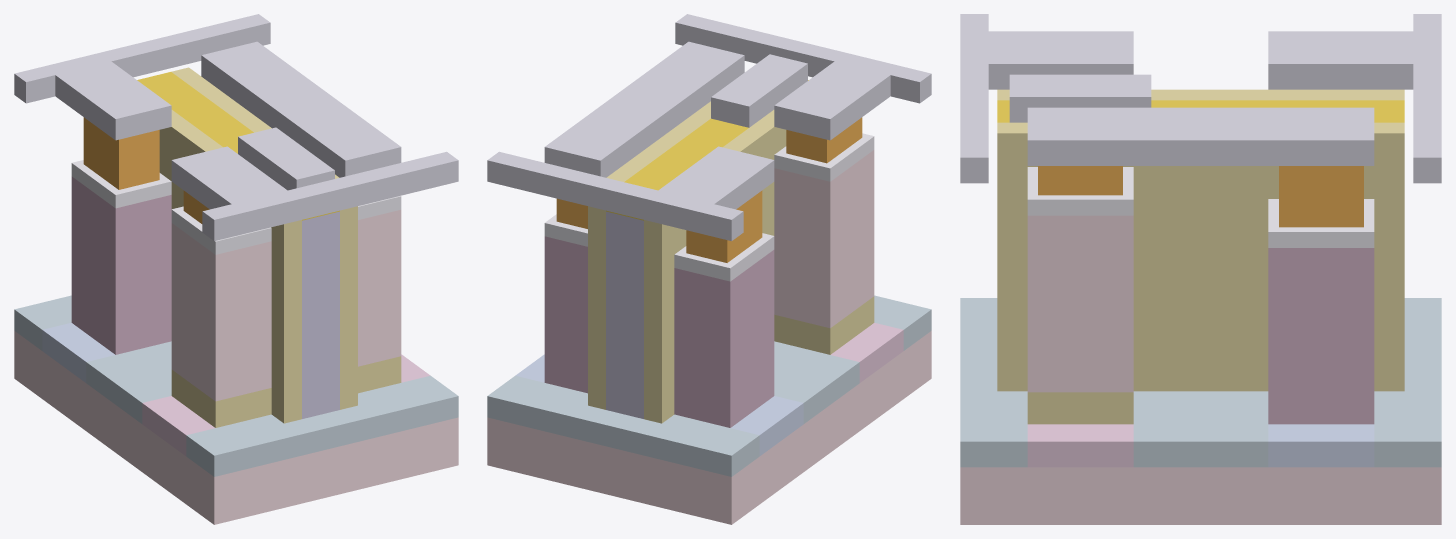
The model's file is inv_ns-sige.glb.
The picture shows the model from 3 angles, left to right: view 1: azimuth 30°, elevation 25°; view 2: azimuth 150°, elevation 25°; view 3: azimuth 270°, elevation 25°; orthographic projection. The views are drawn at different scales.
Visible parts, largest first — view 1: n_substrate, n_epi_source, p_epi_source, n_sti, m1_vss, m1_vdd, m1_out, n_mo, n_epi_drain, n_spacer_source, p_substrate, p_sti (+14 smaller); view 2: p_substrate, p_epi_source, n_epi_source, p_sti, m1_vdd, m1_vss, m1_out, p_mo, p_epi_drain, p_spacer_source, n_substrate, p_spacer_drain (+15 smaller); view 3: m1_out, n_epi_drain, p_epi_drain, b_spacers, p_spacer_drain, n_spacer_drain, n_sti, p_sti, n_substrate, p_substrate, m1_vdd, m1_vss (+11 smaller).
Boxes of the visible parts, box(x1,y1,x2,y2) form: n_substrate: box(114, 404, 458, 524); n_epi_source: box(171, 223, 271, 401); p_epi_source: box(71, 176, 171, 354); n_sti: box(114, 368, 458, 476); m1_vss: box(171, 146, 458, 241); m1_vdd: box(14, 14, 270, 140); m1_out: box(201, 41, 401, 177); n_mo: box(302, 211, 339, 418); n_epi_drain: box(358, 210, 401, 366); n_spacer_source: box(271, 220, 301, 423); p_substrate: box(14, 331, 114, 451); p_sti: box(14, 295, 171, 403); p_substrate: box(487, 404, 831, 524); p_epi_source: box(674, 250, 774, 427); n_epi_source: box(774, 150, 874, 328); p_sti: box(487, 368, 831, 476); m1_vdd: box(487, 146, 774, 241); m1_vss: box(675, 14, 931, 140); m1_out: box(544, 41, 744, 177); p_mo: box(606, 211, 643, 418); p_epi_drain: box(544, 236, 587, 393); p_spacer_source: box(644, 220, 686, 423); n_substrate: box(831, 331, 931, 451); p_spacer_drain: box(588, 140, 674, 409); m1_out: box(1027, 107, 1374, 165); n_epi_drain: box(1027, 215, 1133, 392); p_epi_drain: box(1268, 248, 1374, 424); b_spacers: box(1163, 89, 1238, 391); p_spacer_drain: box(1238, 122, 1404, 391); n_spacer_drain: box(997, 122, 1163, 391); n_sti: box(960, 298, 1200, 467); p_sti: box(1201, 298, 1441, 467); n_substrate: box(960, 467, 1200, 524); p_substrate: box(1201, 467, 1441, 524); m1_vdd: box(1268, 14, 1441, 183); m1_vss: box(960, 14, 1133, 183).
Size of the model in its own units: 96 by 114 by 136.
